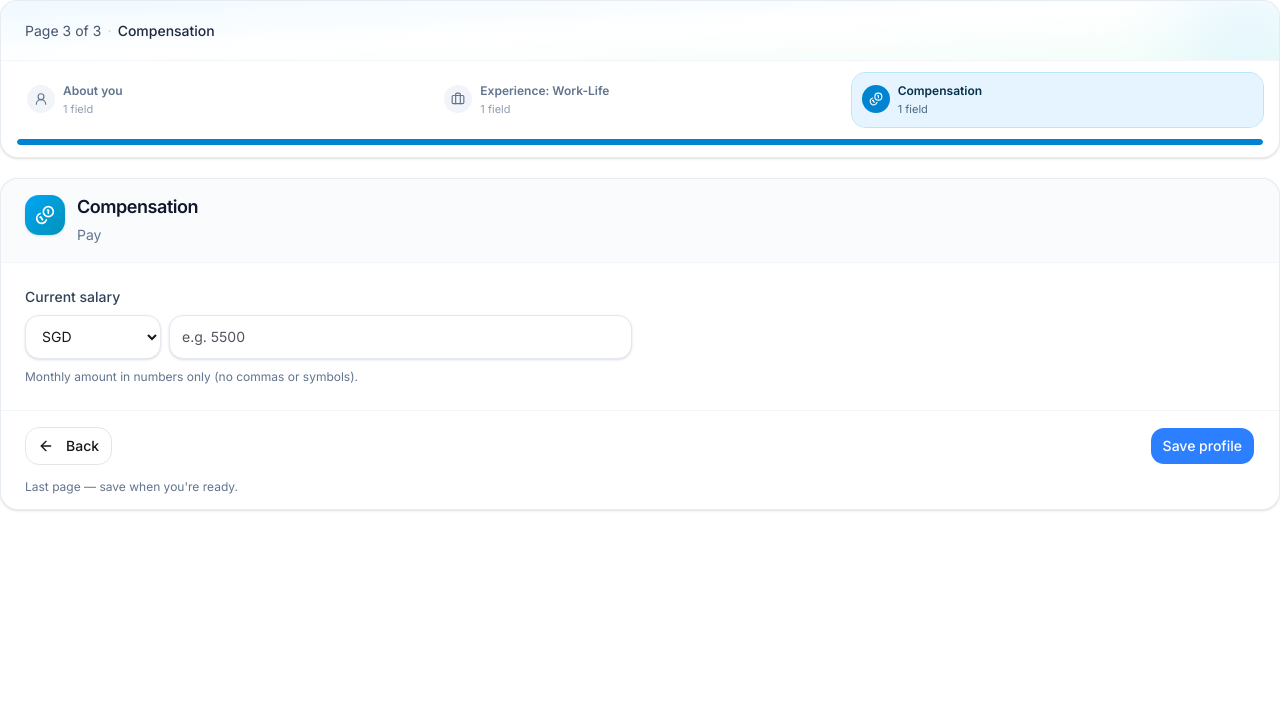
Test: CandidateProfileForm wizard › stays on the last page after Save profile
Check: the heading "Compensation" is shown, box [77, 196, 198, 217]
Click the button "Save profile": (1202, 446) [1150, 427, 1255, 465]
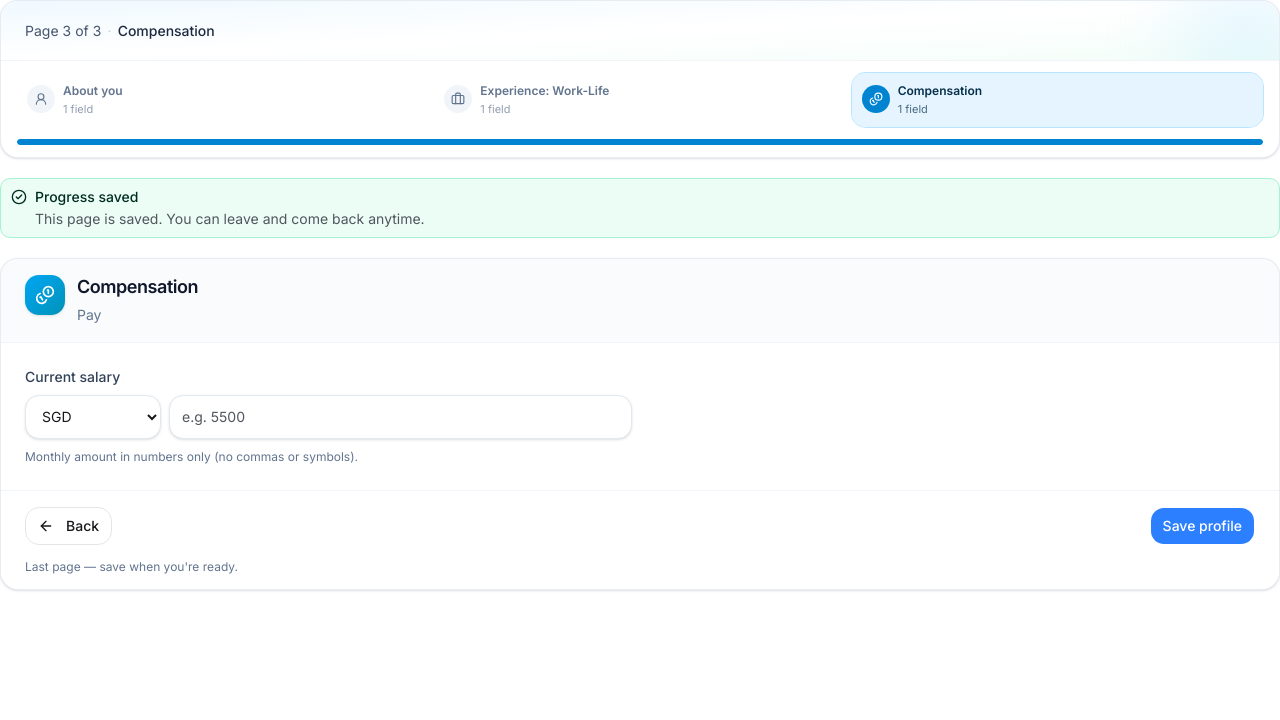
Check: the heading "Compensation" is shown, box [77, 276, 198, 297]
Check: the text "Progress saved" is shown, box [35, 188, 138, 205]
